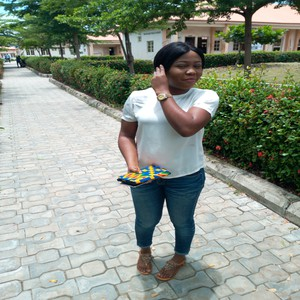Fulokoja_female_student: (134, 43, 201, 264)
